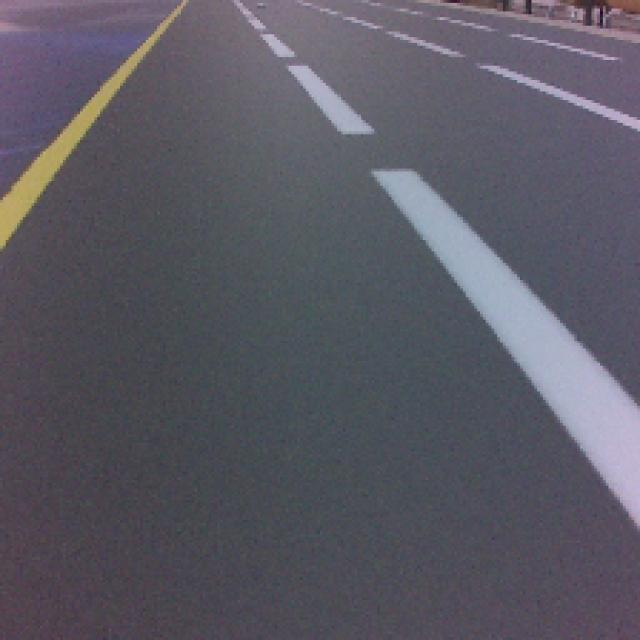Road: (0, 170, 640, 542)
